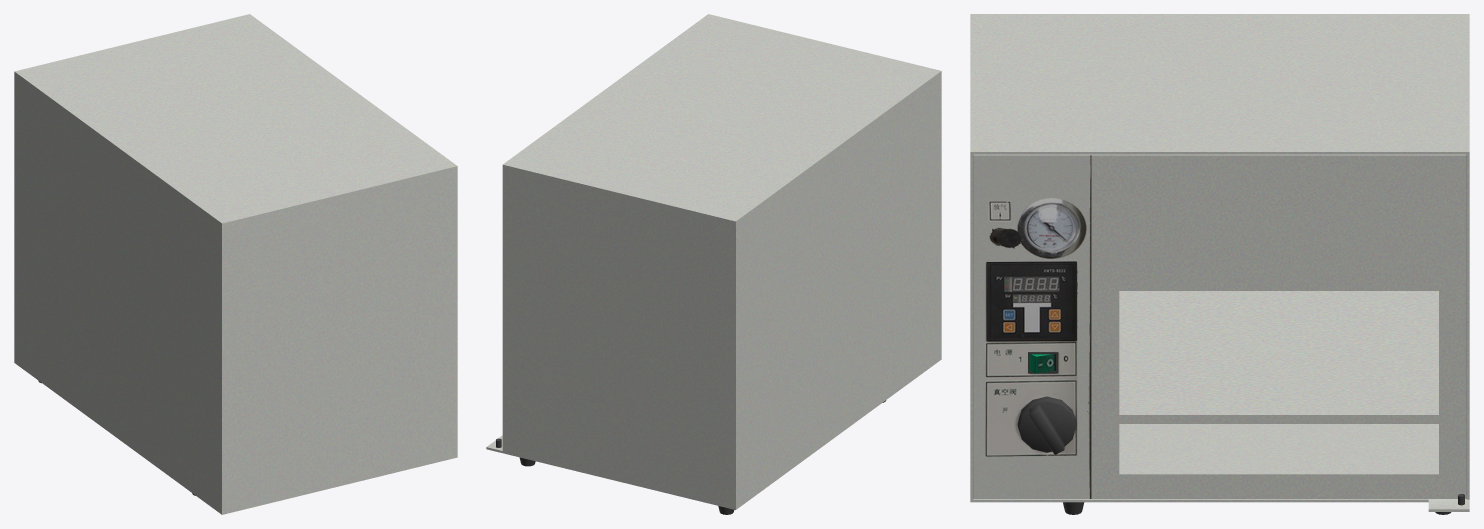
File: SM_恒温干燥箱.FBX
The picture shows the model from 3 angles, left to right: view 1: azimuth 30°, elevation 25°; view 2: azimuth 150°, elevation 25°; view 3: azimuth 270°, elevation 25°; orthographic projection. The views are drawn at different scales.
Parts seen in each view (by area): view 1: SM_恒温干燥箱; view 2: SM_恒温干燥箱; view 3: SM_恒温干燥箱.
Boxes of the visible parts, x1,y1,x2,y2 form: SM_恒温干燥箱: (14,14,457,514); SM_恒温干燥箱: (486,14,941,514); SM_恒温干燥箱: (970,14,1469,514).
Bounding box in the file's own units: 0.5348 × 0.6212 × 0.7642.
